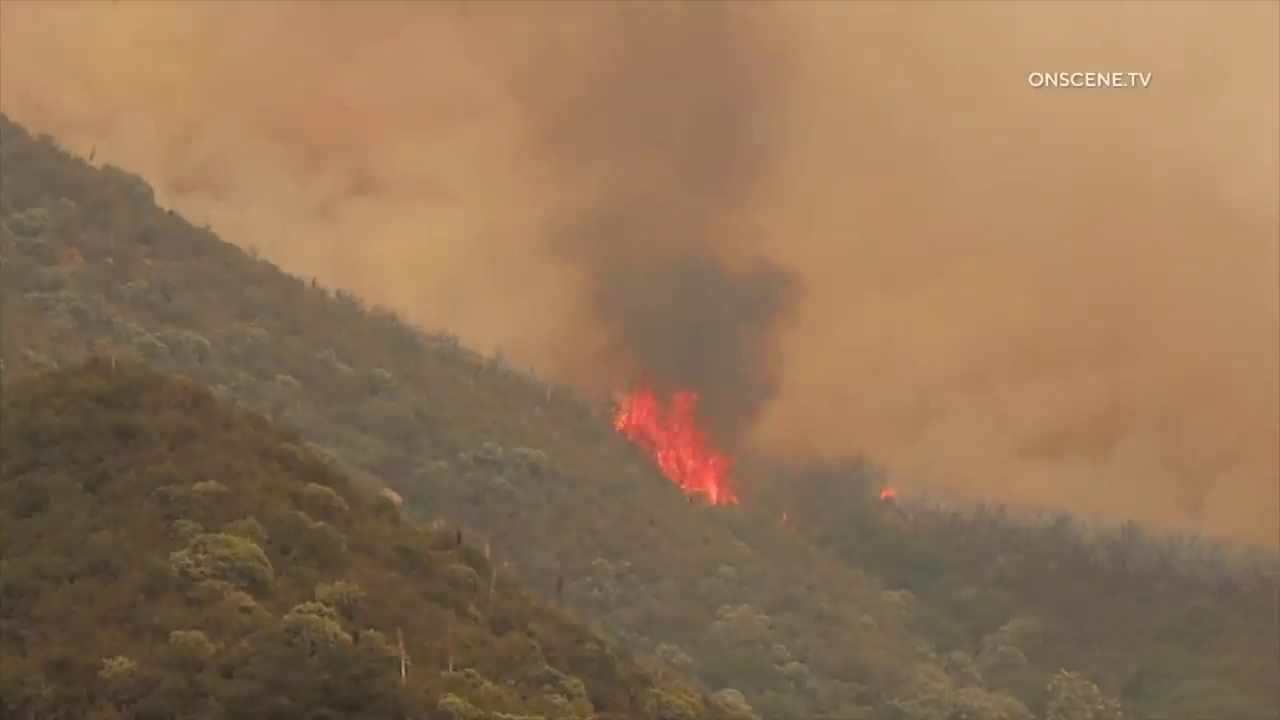forest_fire: (613, 387, 736, 504)
